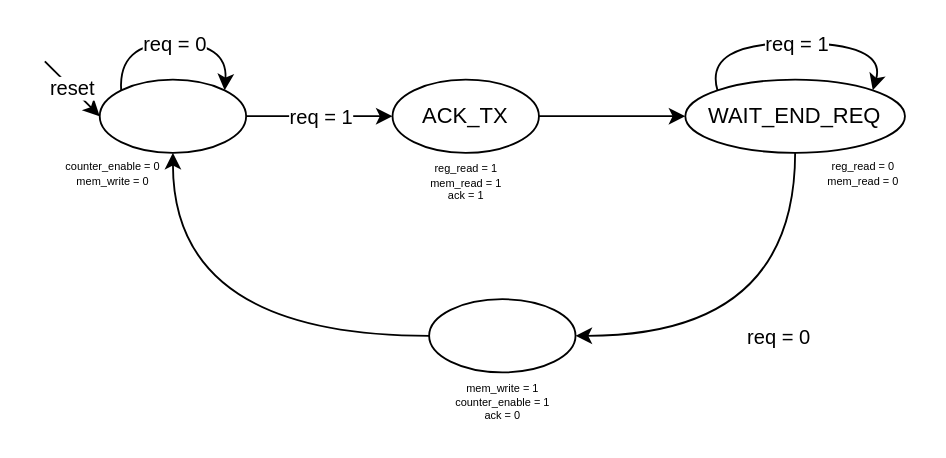
The diagram is 946 pixels wide and 458 high, and some of its shapes have lost their labels. Each missing label, with the centre of its shape:
"END_TX" goes at (501,334).
"WAIT_TX" goes at (172,115).
